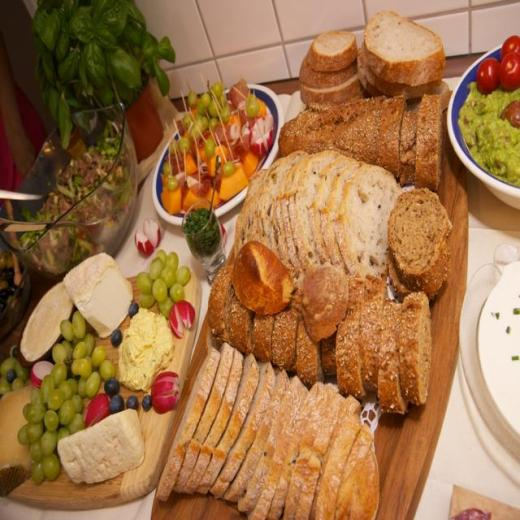Orange: (18, 312, 114, 483), (137, 247, 190, 319), (189, 82, 230, 141), (0, 344, 30, 396), (105, 378, 121, 396), (110, 397, 124, 414), (246, 102, 260, 118), (204, 139, 216, 157), (125, 395, 138, 409), (222, 161, 235, 175), (111, 329, 121, 347), (167, 176, 178, 192), (142, 394, 151, 412), (188, 90, 197, 108), (128, 302, 138, 317), (179, 136, 188, 152), (169, 140, 178, 155), (163, 162, 172, 176), (7, 369, 15, 384), (247, 93, 256, 103), (12, 348, 18, 358), (178, 136, 182, 147)
